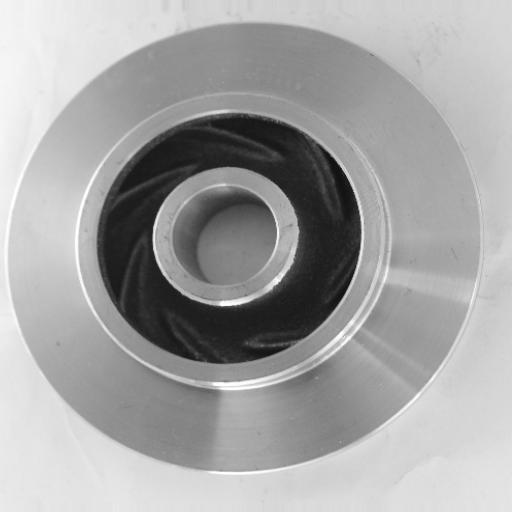polished_casting: (7, 21, 485, 473)
